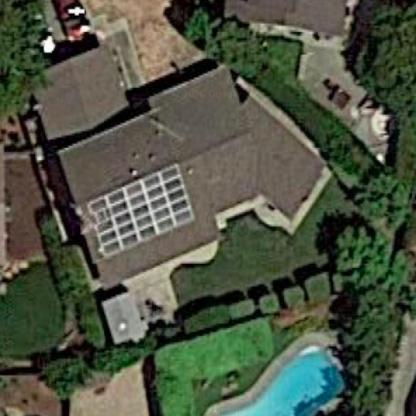car: (51, 1, 91, 38)
solar_panel: (85, 161, 200, 255)
swimming_pool: (194, 339, 348, 416)
